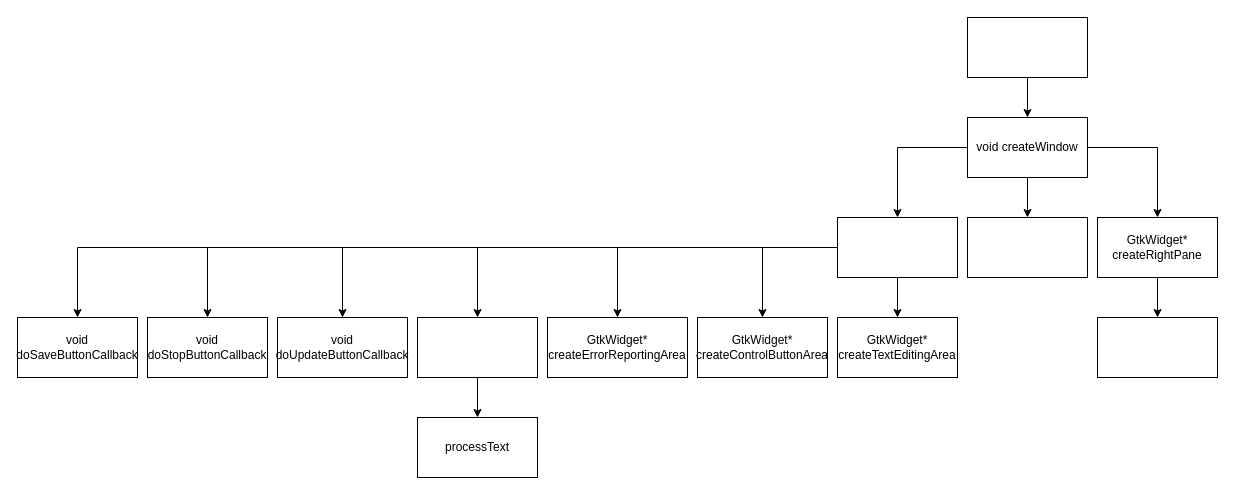
Image size: 1235x495. Some labels were removed from this diagram. The centre of each missing label's shape, as x and y in pixels:
GdkRectangle getScreenDimensions: the point at 1027,247
GtkWidget* createLeftPane: the point at 897,247
onDrawEvent: the point at 1157,347
void activate: the point at 1027,47
void doRunButtonCallback: the point at 477,347
